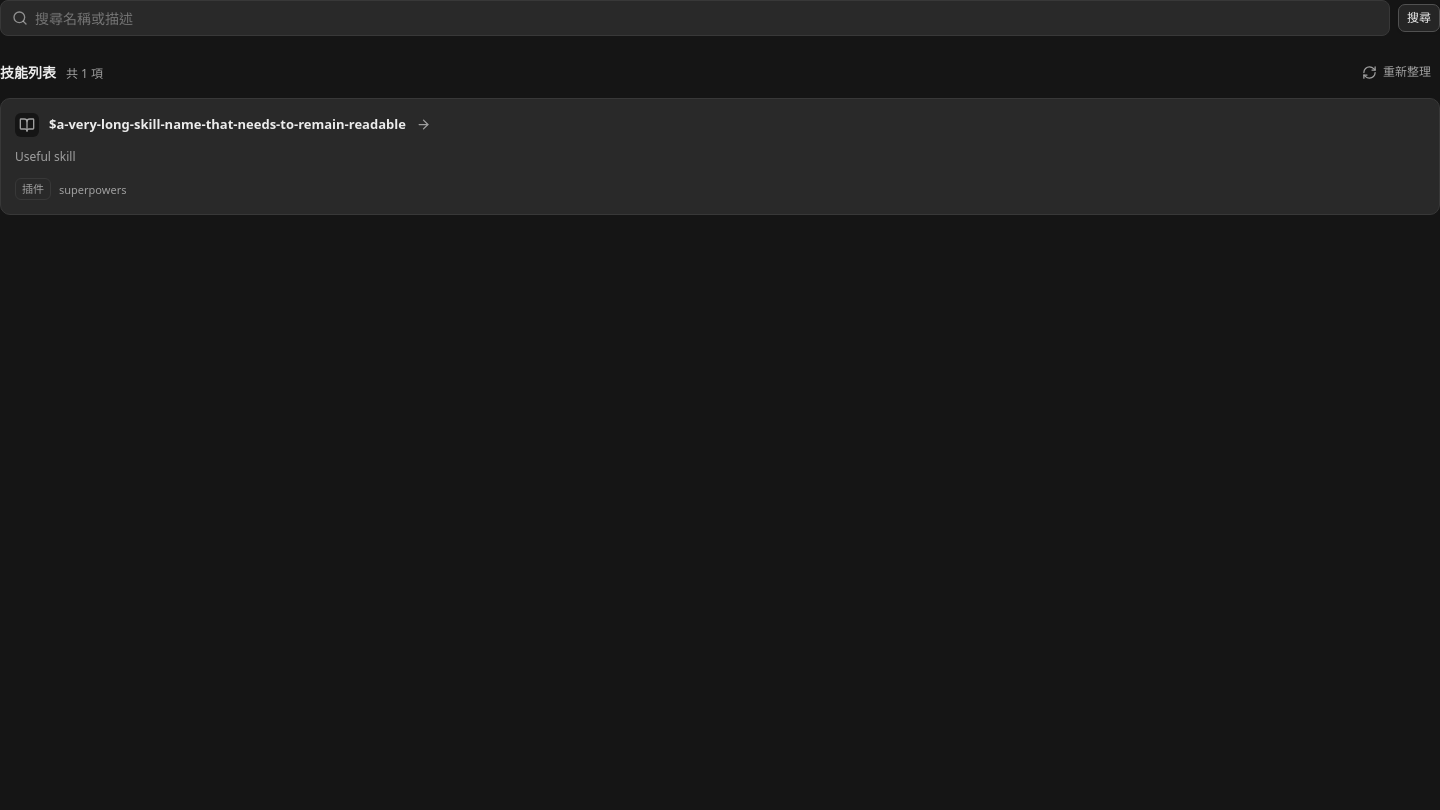
Scenario: shows skills as readable cards and loads a detail dialog only on selection
Click the button "a-very-long-skill-name-that-needs-to-remain-readable".
click(720, 157)  # box [0, 98, 1439, 215]
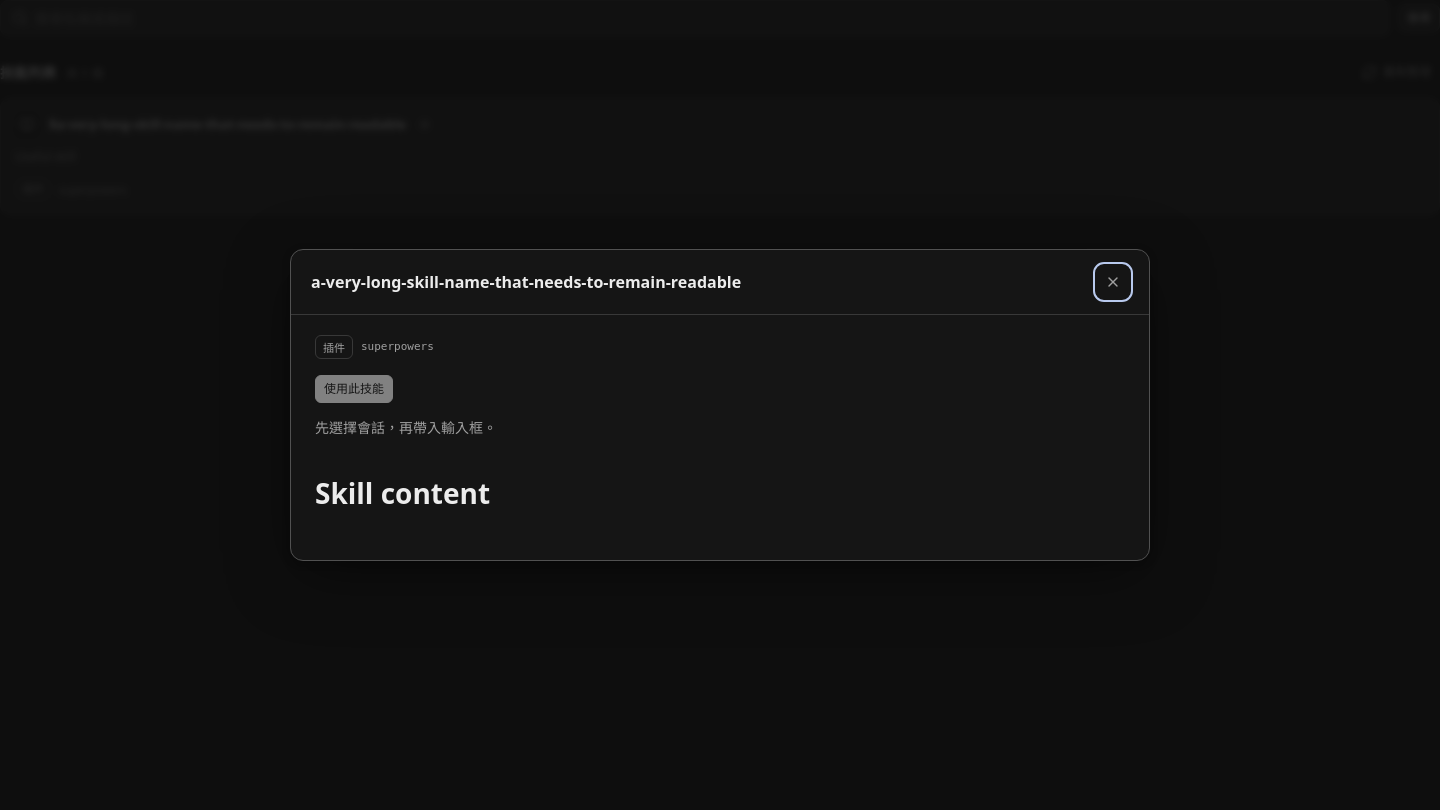
Now the dialog "a-very-long-skill-name-that-needs-to-remain-readable" is shown, box [290, 249, 1150, 561]
Now the heading "Skill content" is shown, box [315, 474, 490, 512]
